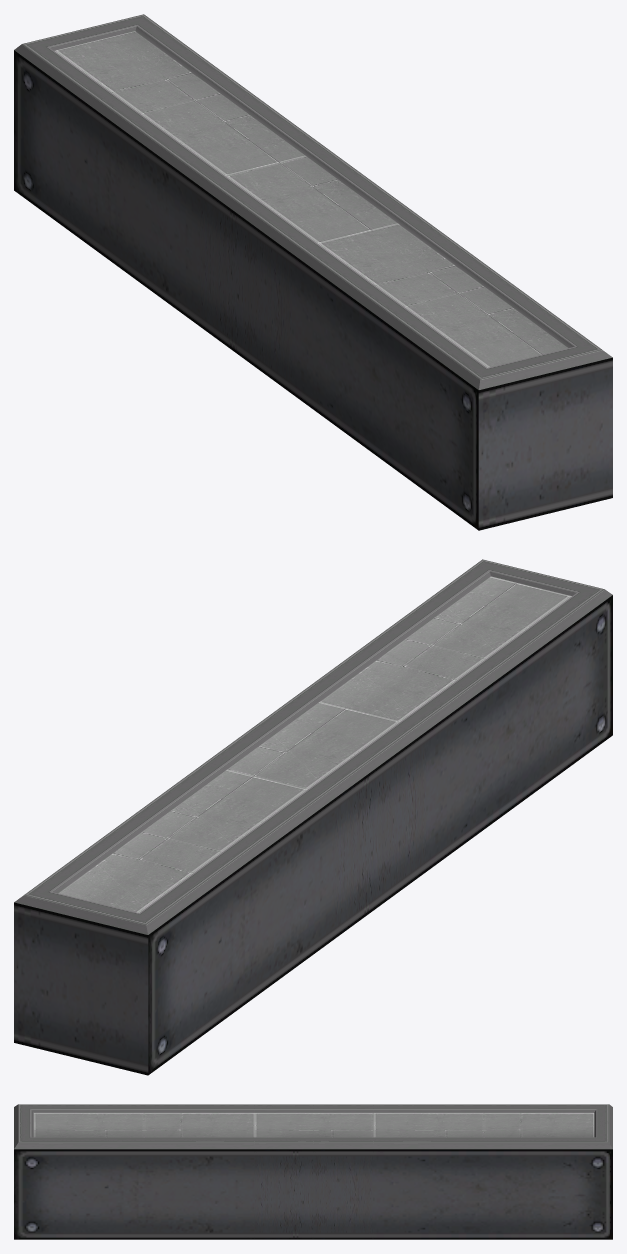
File: Pres_Floor_1x4_Raised.FBX
The picture shows the model from 3 angles, top to bottom: view 1: azimuth 30°, elevation 25°; view 2: azimuth 150°, elevation 25°; view 3: azimuth 270°, elevation 25°; orthographic projection. The views are drawn at different scales.
Visible parts, largest first — view 1: Pres_Floor_1x4_Raised; view 2: Pres_Floor_1x4_Raised; view 3: Pres_Floor_1x4_Raised.
Boxes of the visible parts, x1,y1,x2,y2 form: Pres_Floor_1x4_Raised: (14, 14, 612, 530); Pres_Floor_1x4_Raised: (14, 559, 612, 1075); Pres_Floor_1x4_Raised: (14, 1104, 612, 1239).
Bounding box in the file's own units: 1 × 1.05 × 6.
